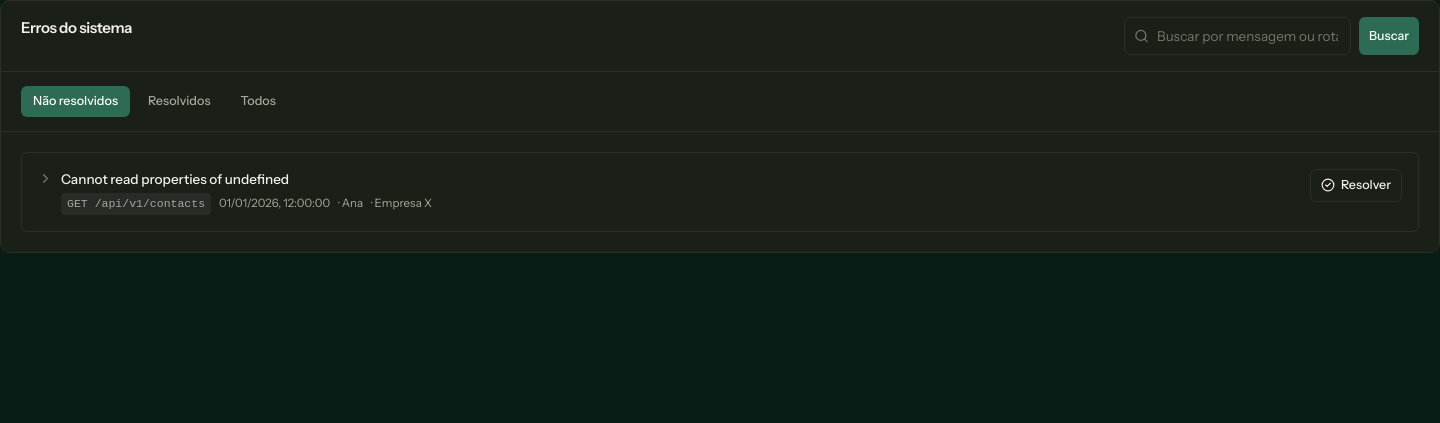
Test: AdminErrorsPanel › marca como resolvido e remove da lista
The width and height of the screenshot is (1440, 423).
What coordinates should you click on to do the following:
click the button "Resolver"
I would click on:
 (1356, 185)
Its box is [1310,169,1402,202].
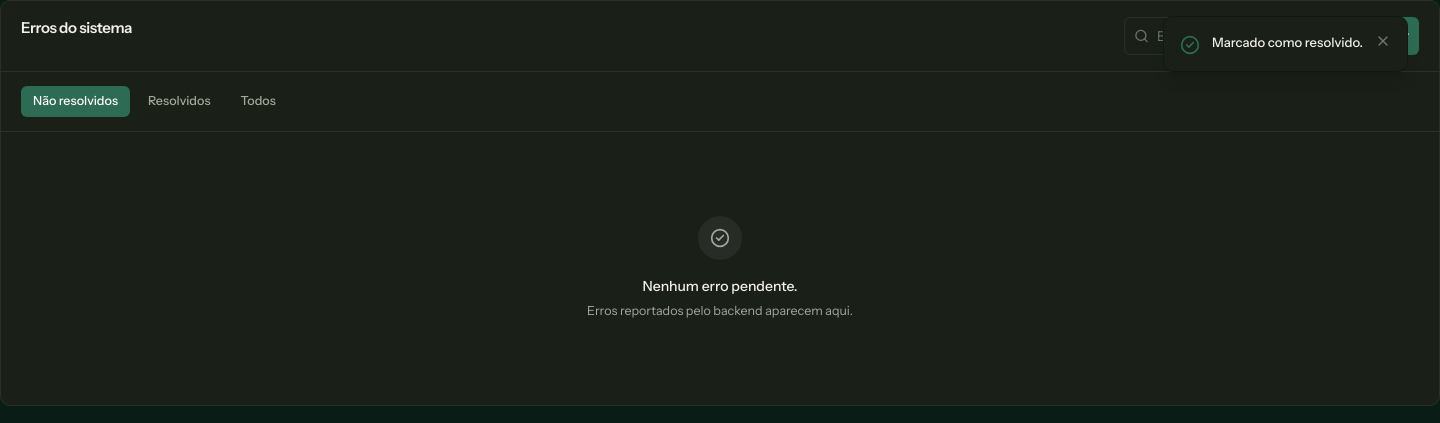
Expected: the button "Resolver" is gone
